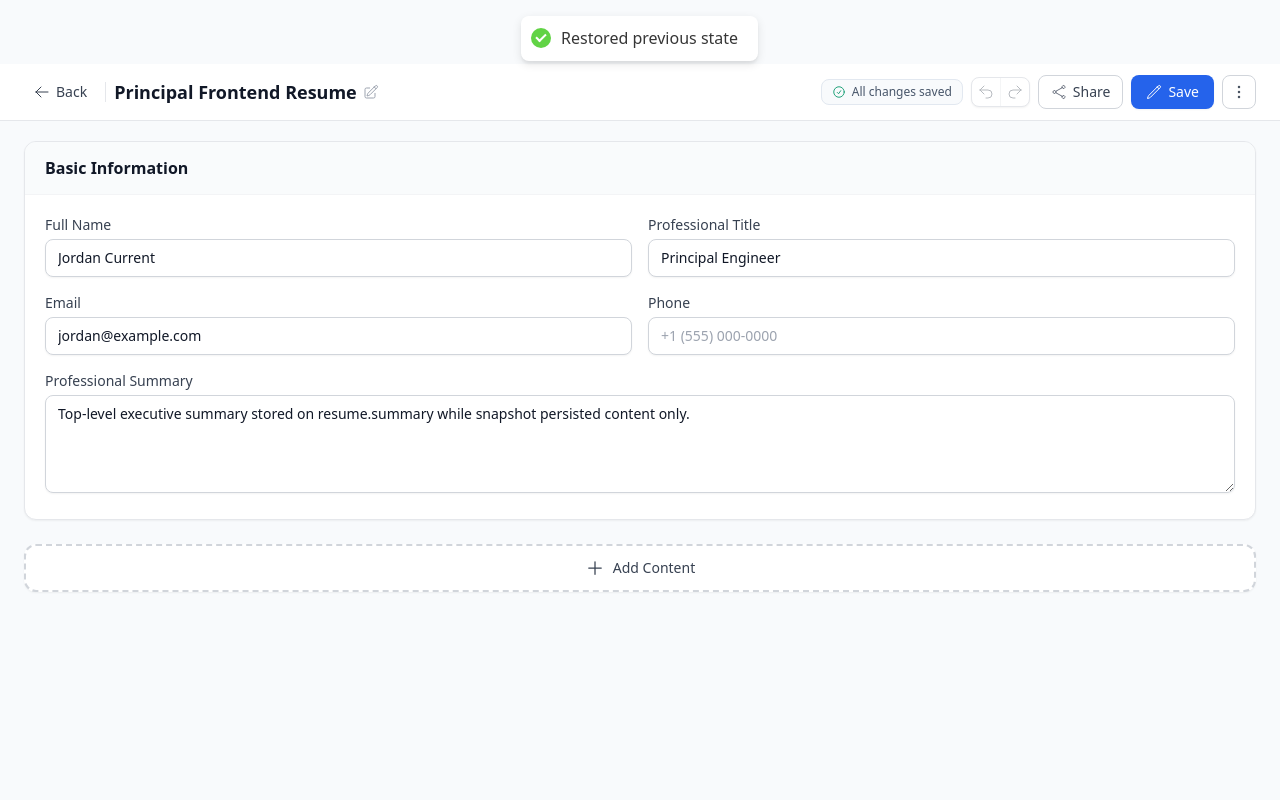
Version History service, drawer, preview, restore & Undo toast › ResumeEditor Version History UI flow › hydrates Professional Summary in read-only version preview and on restore when snapshots store content only and summary lives in top-level resume.summary
The image size is (1280, 800).
Open Version History drawer
Step 1. Click the button with test id "toolbar-overflow-btn" → (1239, 92), box x1=1222 y1=75 x2=1256 y2=109
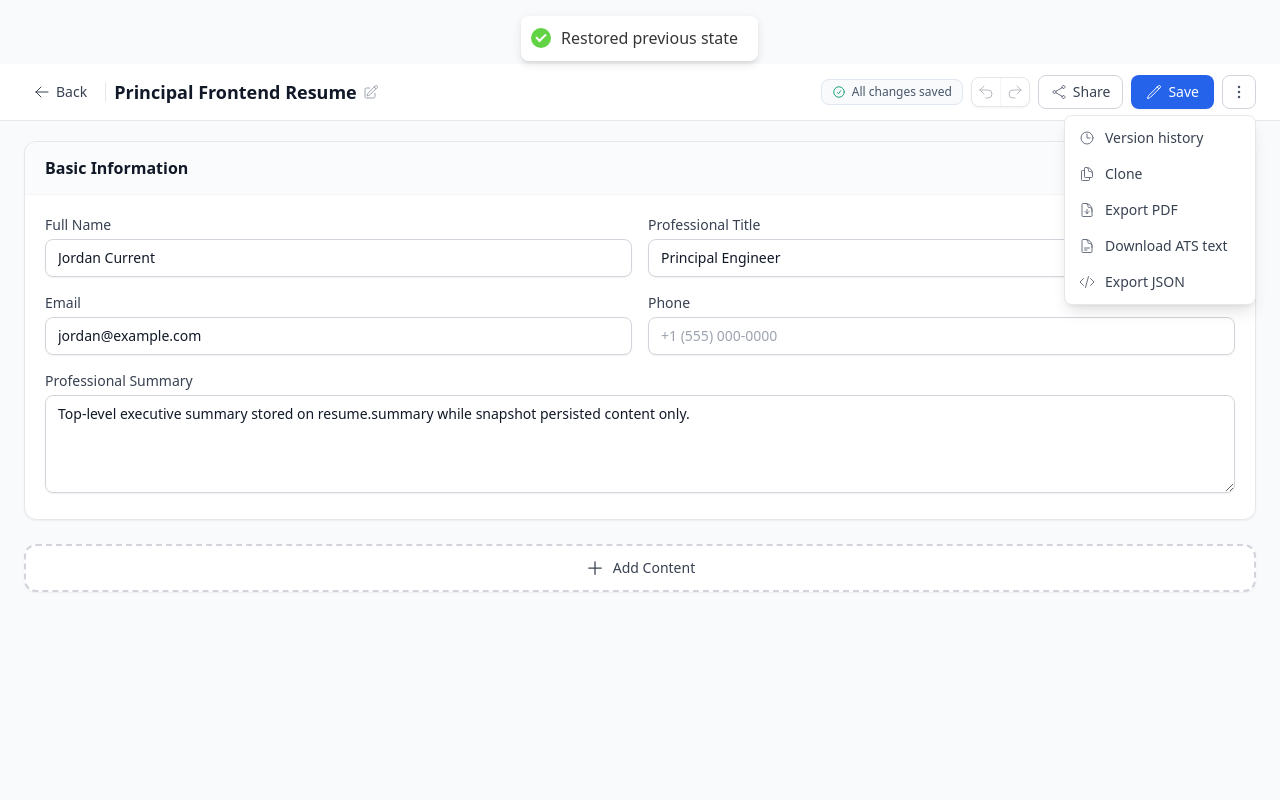
Step 2. Click the menu item "Version history" → (1160, 138), box x1=1065 y1=120 x2=1255 y2=156
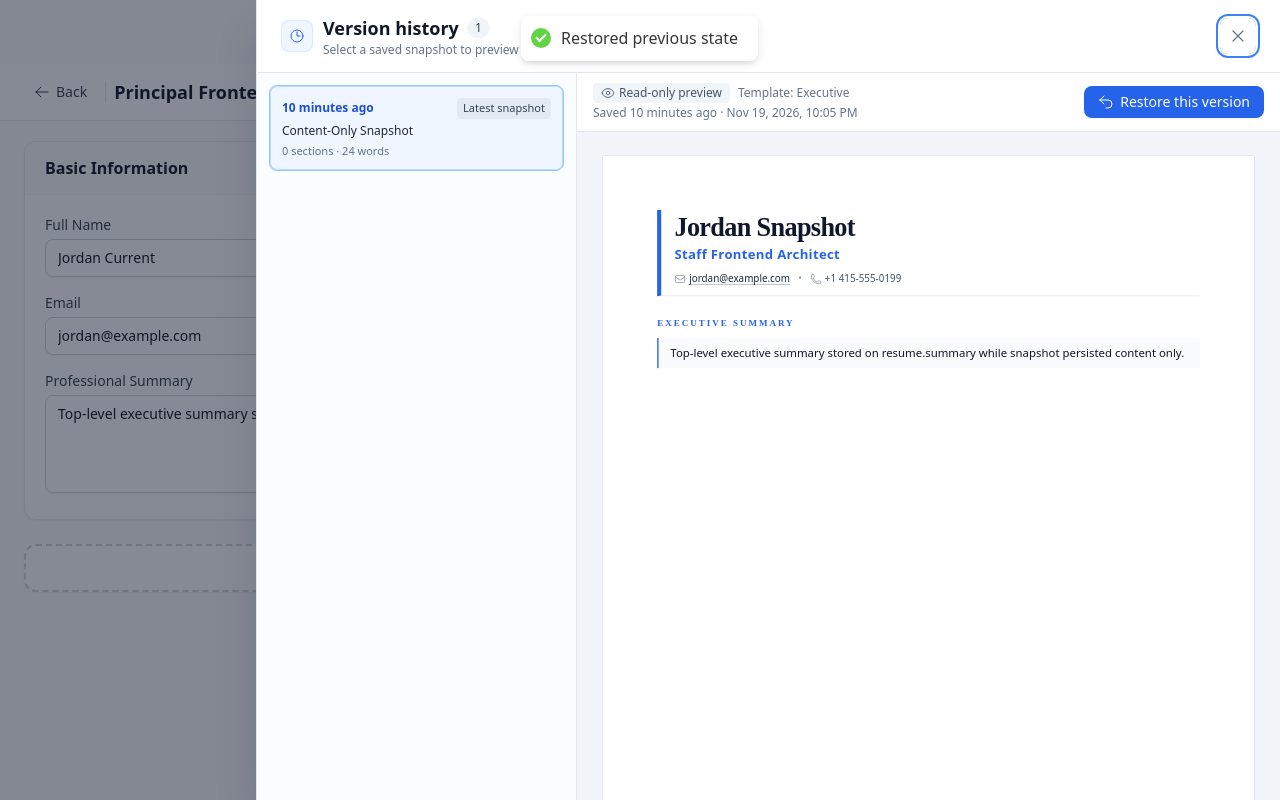
Expected: the text "Jordan Snapshot" is shown, x1=674 y1=212 x2=855 y2=241
Expected: the text "Top-level executive summary stored on resume.summary while snapshot persisted content only." is shown, x1=670 y1=344 x2=1184 y2=360
Restore version and confirm editor textarea + preview stay hydrated via normalizeResume
Step 3. Click the button with test id "restore-version-btn" → (1174, 102), box x1=1084 y1=86 x2=1264 y2=118
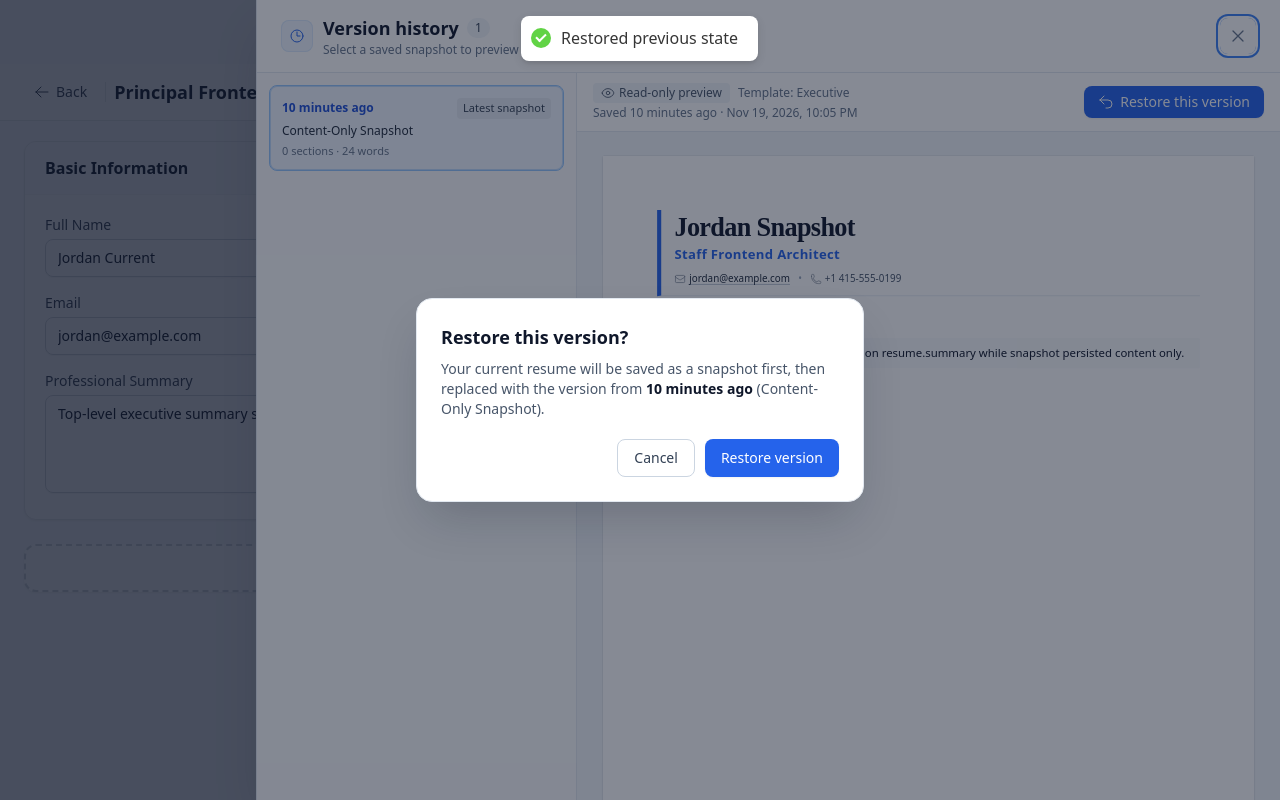
Step 4. Click the button with test id "confirm-restore-version-btn" → (772, 458), box x1=705 y1=439 x2=839 y2=477
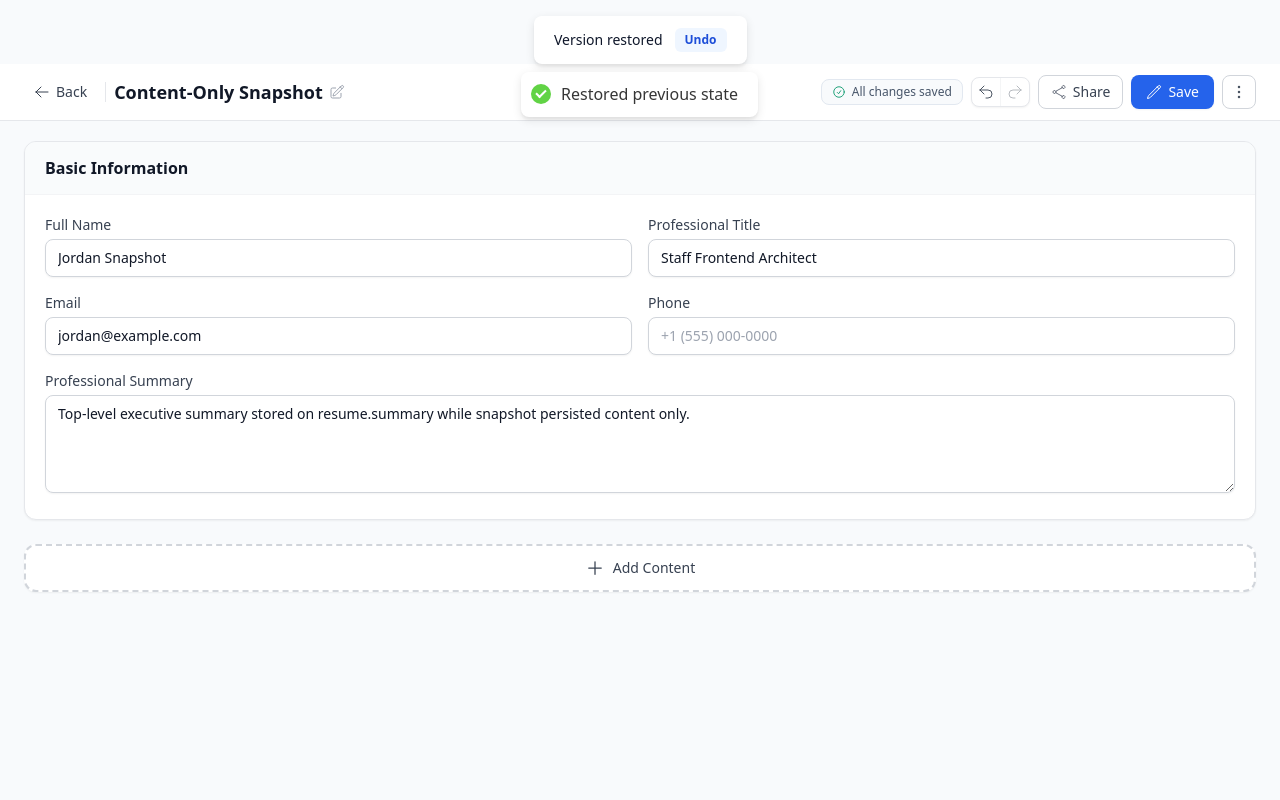
Expected: the text box labelled "Professional Summary" holds "Top-level executive summary stored on resume.summary while snapshot persisted content only.", x1=45 y1=395 x2=1235 y2=493
Expected: the dialog with test id "version-history-drawer" is gone
Expected: the field labelled "Full Name" holds "Jordan Snapshot", x1=45 y1=239 x2=632 y2=277
